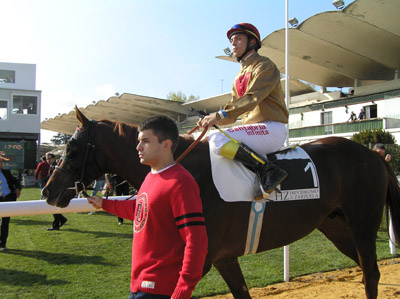person: (88, 115, 209, 299), (199, 23, 291, 201)
